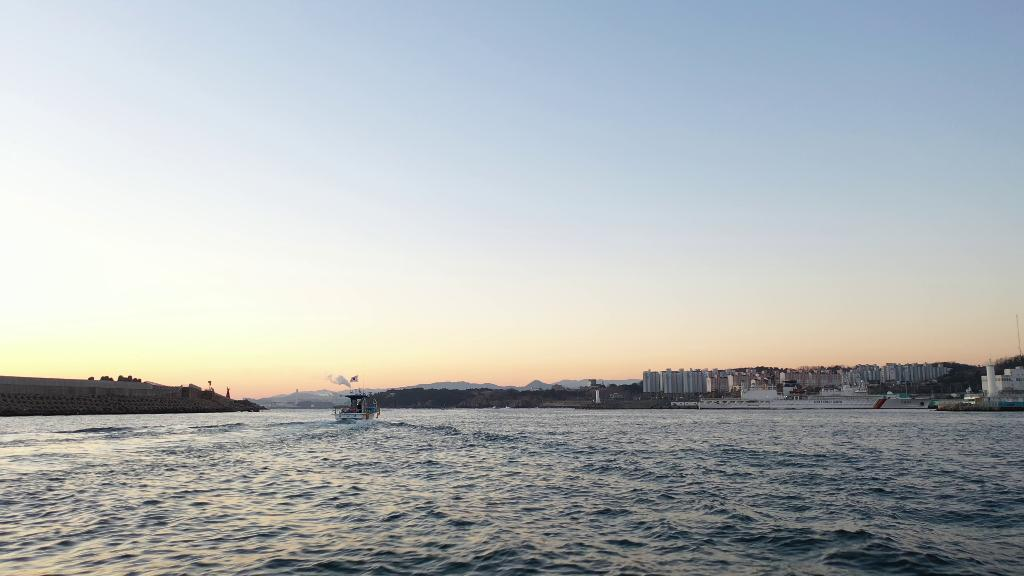Warship: (692, 376, 936, 410)
